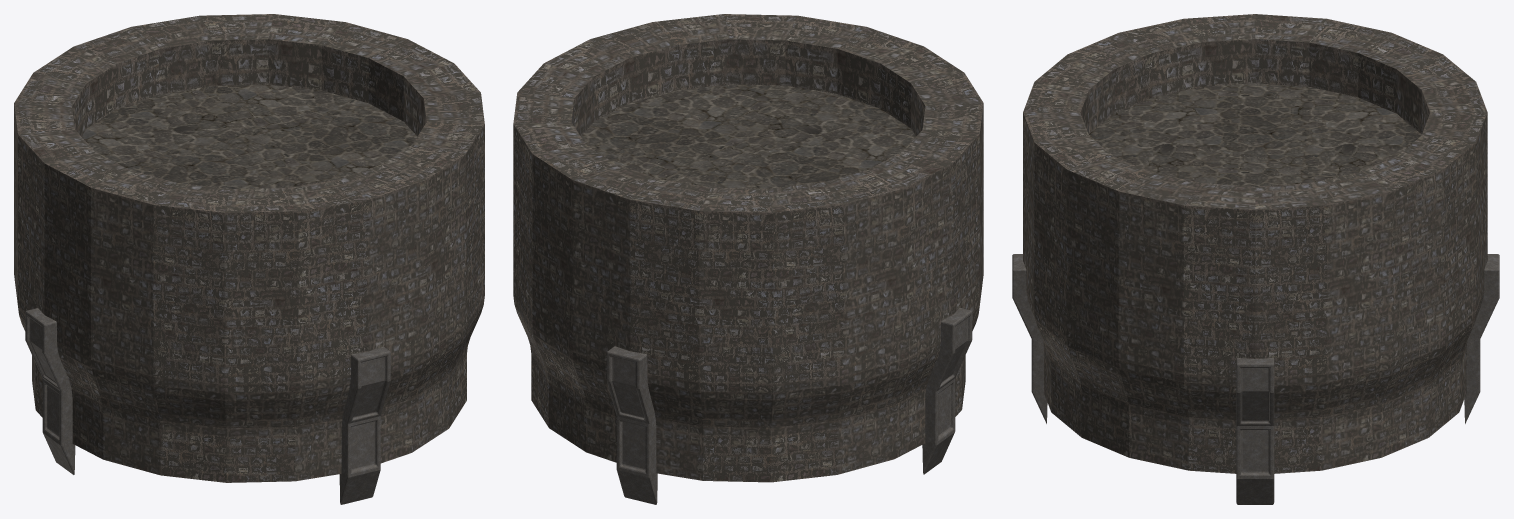
File: TowerRoof_RoundExtension.fbx
3 views of the same model, side by side, from view 1: azimuth 30°, elevation 25°; view 2: azimuth 150°, elevation 25°; view 3: azimuth 270°, elevation 25° (orthographic).
Visible parts, largest first — view 1: Round Tower Top Extension; view 2: Round Tower Top Extension; view 3: Round Tower Top Extension.
Boxes of the visible parts, x1,y1,x2,y2 form: Round Tower Top Extension: (14, 14, 484, 504); Round Tower Top Extension: (513, 14, 983, 504); Round Tower Top Extension: (1012, 14, 1499, 504).
Size of the model in its own units: 682 by 470 by 682.
